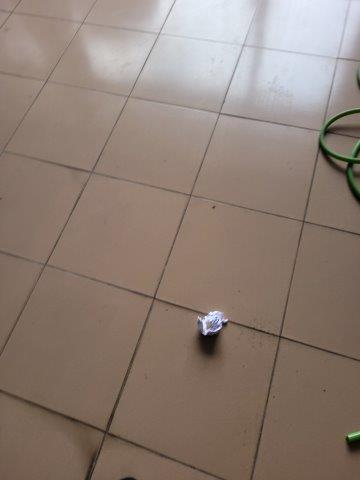kertas: (200, 311, 226, 340)
